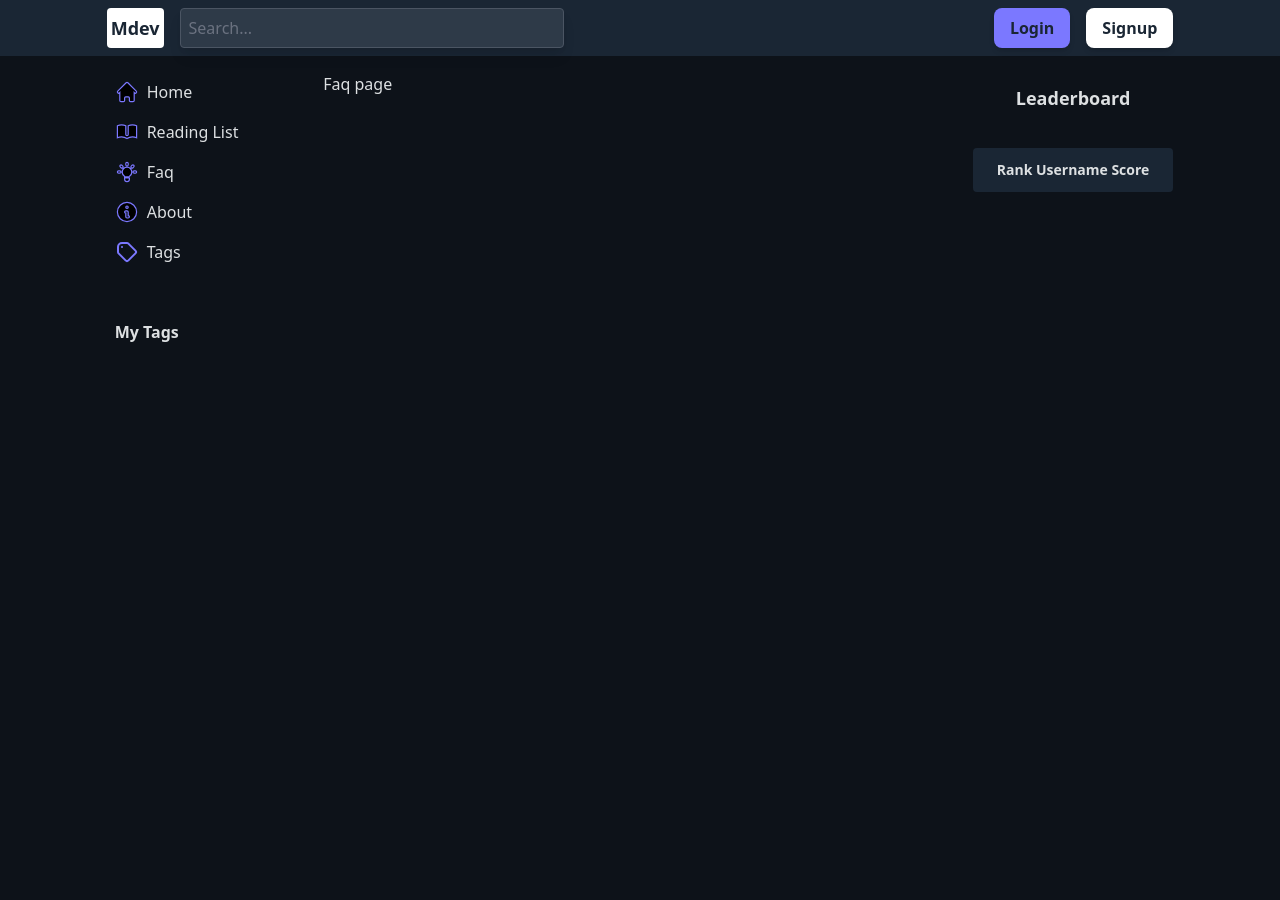
Scenario: navbar is working › go to login page
Click the link "Login" at x=1032, y=28, box 994,8 -> 1070,48
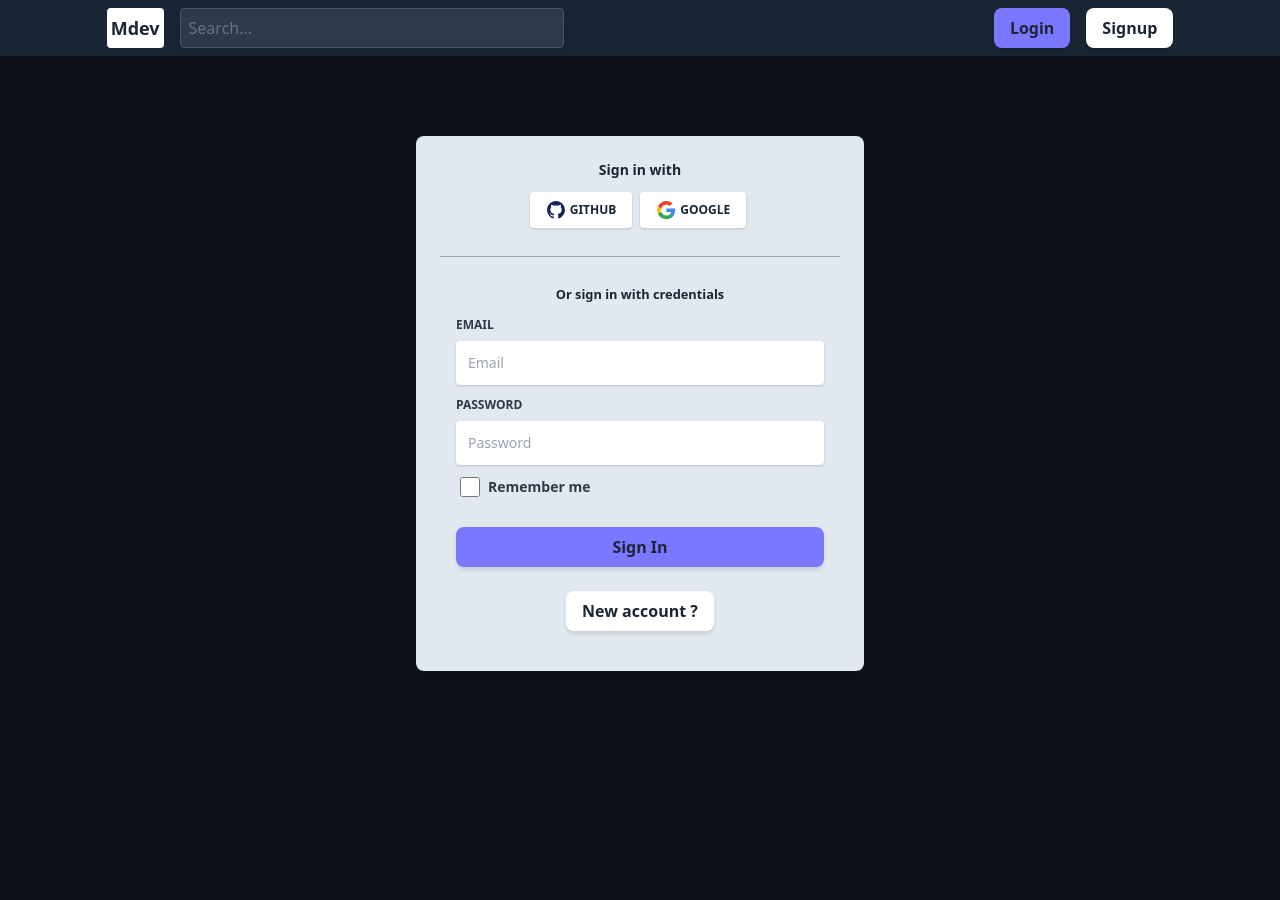
Expected: the button "Sign In" is shown, 456,527 -> 824,567
